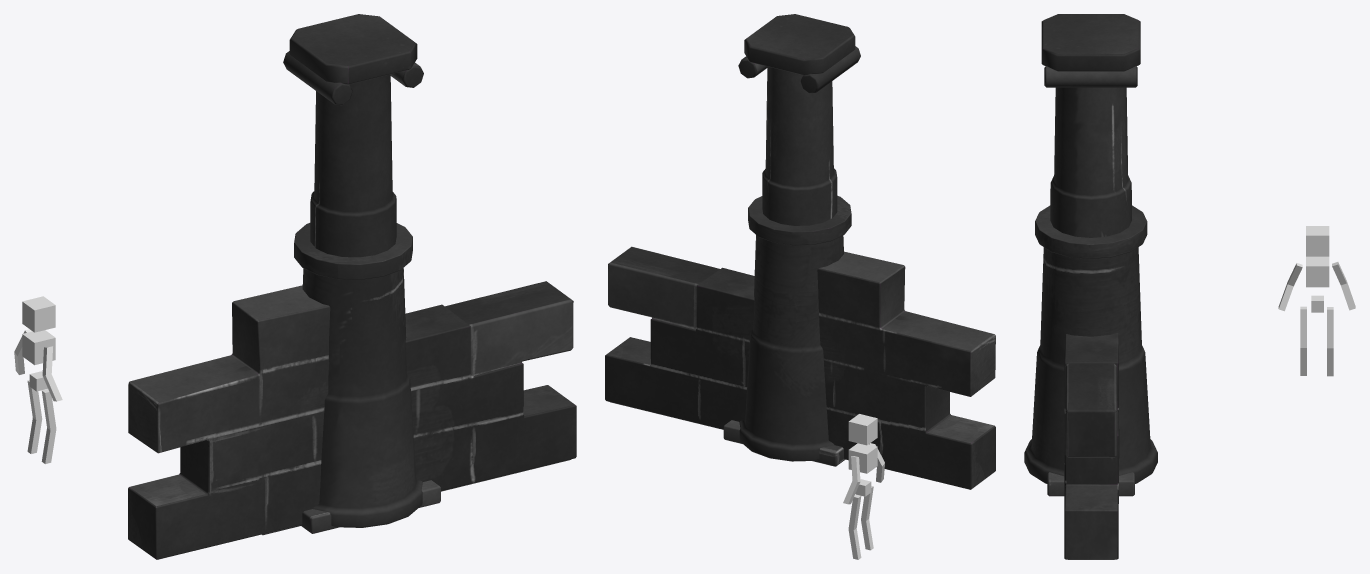
Rendered from Ruin-stuff.fbx.
The picture shows the model from 3 angles, left to right: view 1: azimuth 30°, elevation 25°; view 2: azimuth 150°, elevation 25°; view 3: azimuth 270°, elevation 25°; orthographic projection. The views are drawn at different scales.
Parts seen in each view (by area): view 1: Wall_01, Column_02, Column_01, Wall_02, Cube, Platform_01; view 2: Wall_01, Column_02, Column_01, Wall_02, Cube, Platform_01; view 3: Column_02, Column_01, Wall_01, Wall_02, Cube, Platform_01.
Part boxes in pixels (x1,y1,x2,y2): Wall_01: (128,285,576,559); Column_02: (294,223,422,527); Column_01: (283,14,423,257); Wall_02: (262,281,573,535); Cube: (14,296,62,463); Platform_01: (301,480,440,533); Wall_01: (605,251,995,489); Column_02: (739,195,851,461); Column_01: (738,14,860,225); Wall_02: (608,246,848,460); Cube: (843,414,884,559); Platform_01: (723,420,845,466); Column_02: (1024,205,1157,483); Column_01: (1041,14,1140,237); Wall_01: (1064,333,1119,559); Wall_02: (1065,363,1117,559); Cube: (1278,226,1355,376); Platform_01: (1047,472,1134,496).
Size of the model in its own units: 509 by 533 by 369.
